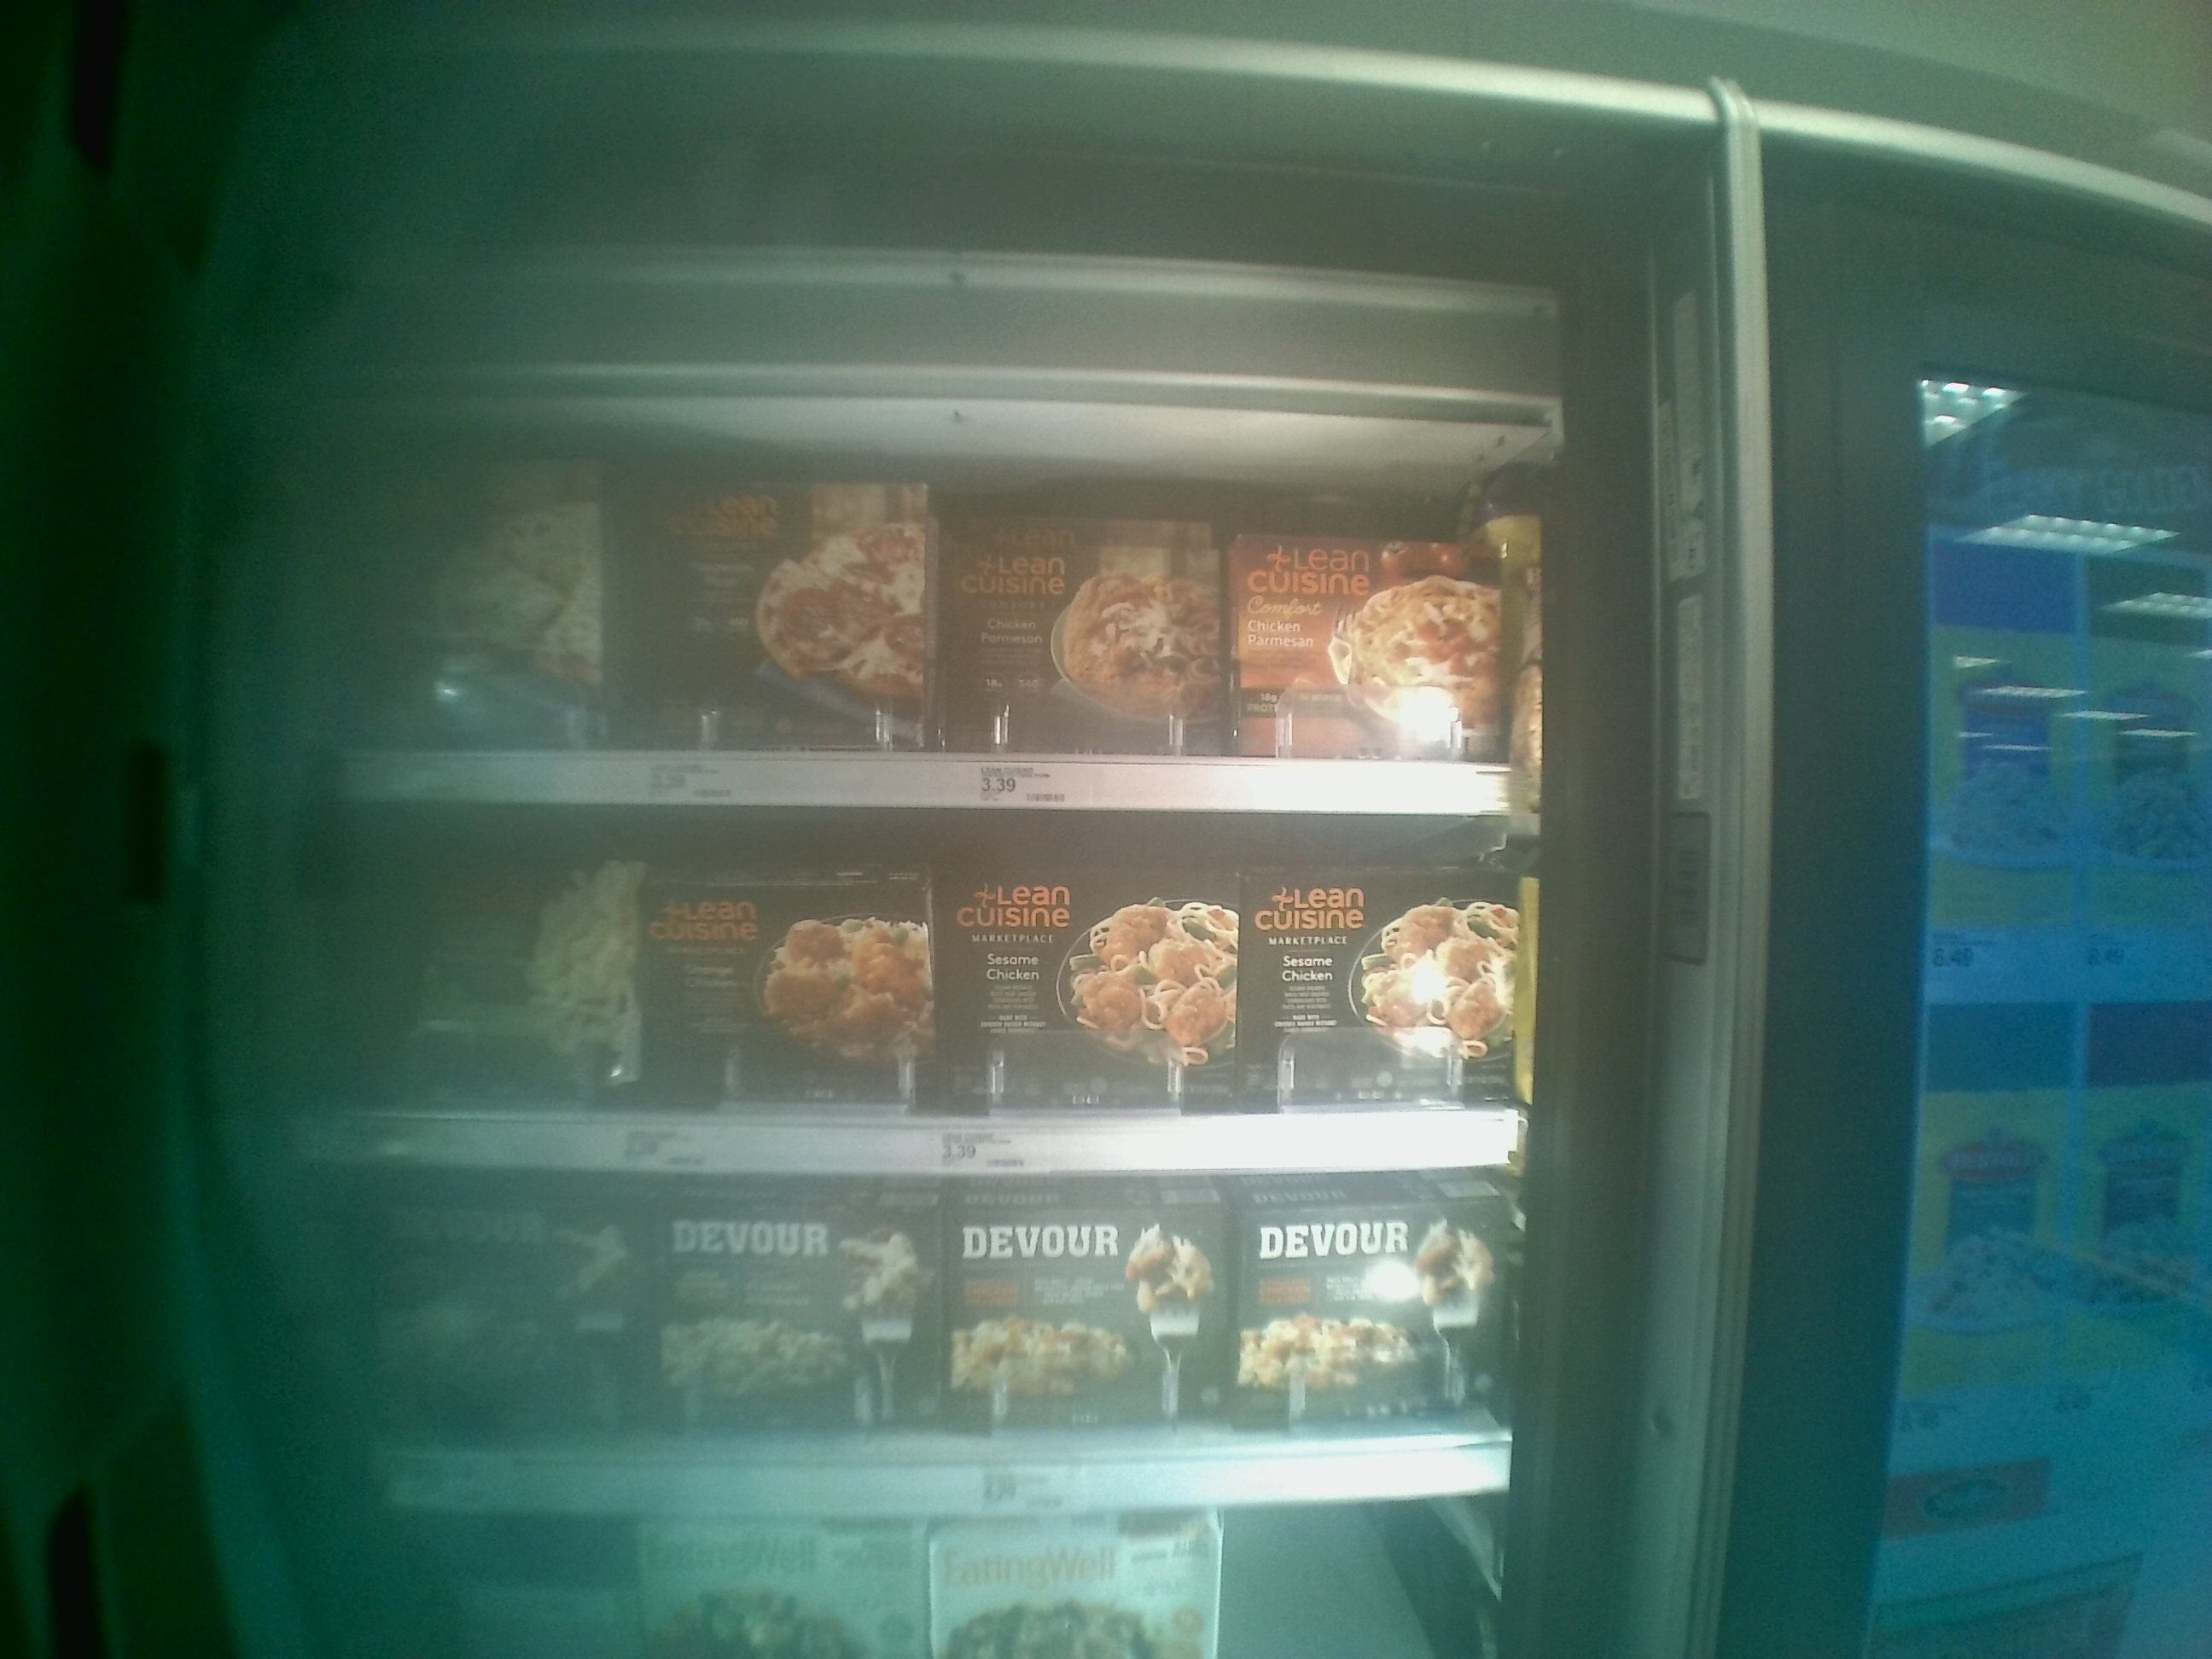shelf: (310, 432, 1524, 809), (280, 807, 1515, 1171), (298, 1162, 1521, 1521)
